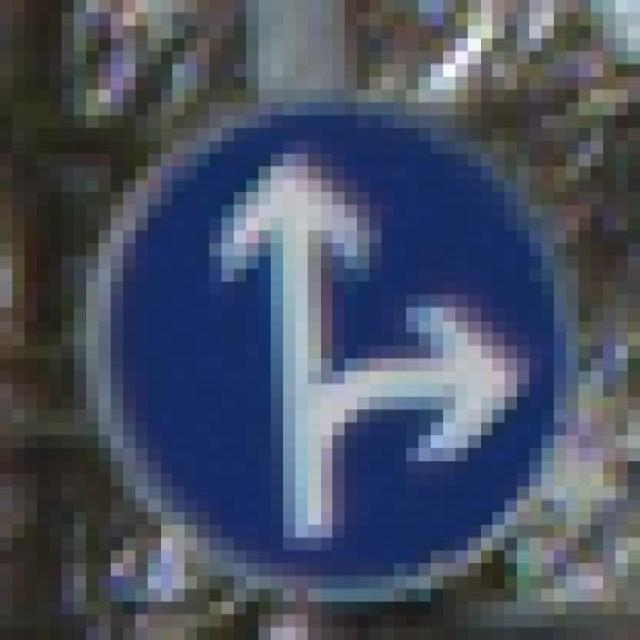Go Straight or Turn Right: (74, 102, 591, 588)
